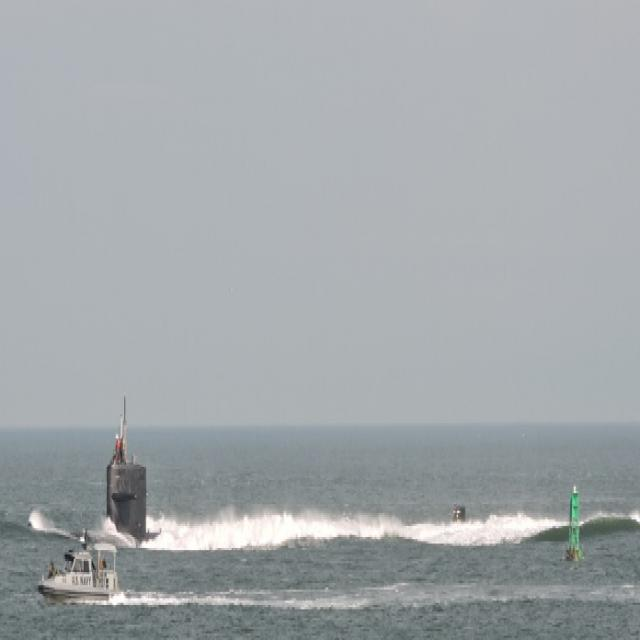submarine: (105, 446, 158, 542)
